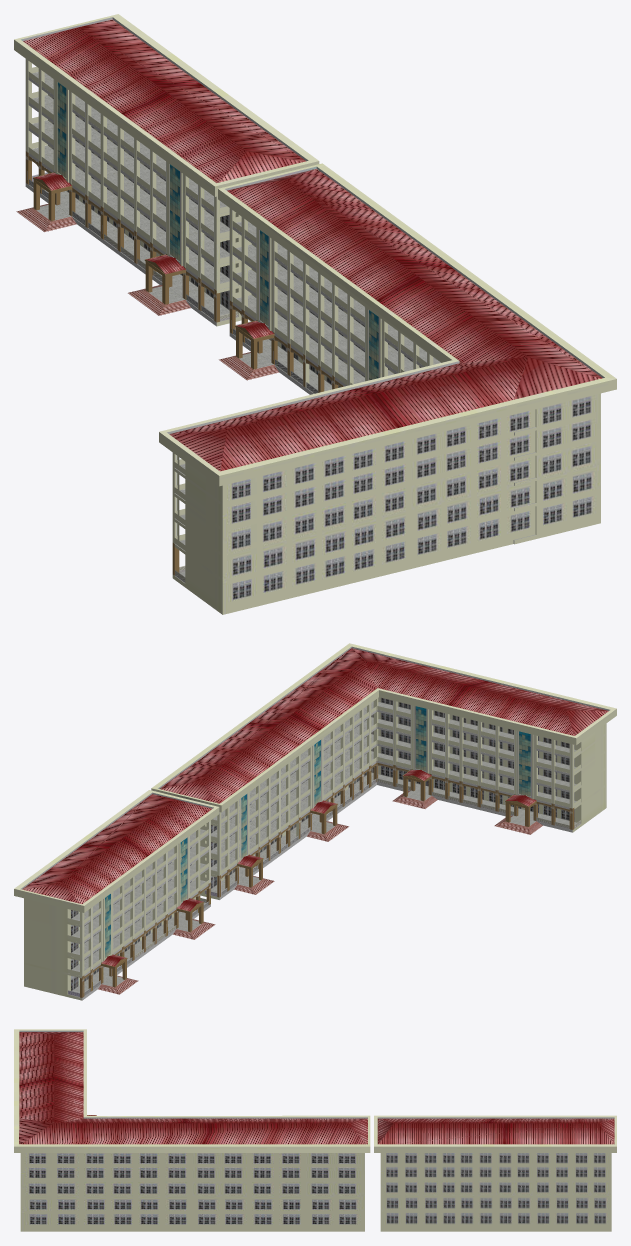
3 views of the same model, one above another, from view 1: azimuth 30°, elevation 25°; view 2: azimuth 150°, elevation 25°; view 3: azimuth 270°, elevation 25° (orthographic). The views are drawn at different scales.
Parts seen in each view (by area): view 1: 5c73a7d59b2f734bcccde525.001; view 2: 5c73a7d59b2f734bcccde525.001; view 3: 5c73a7d59b2f734bcccde525.001.
Part boxes in pixels (box(x1,y1,x2,y2)): 5c73a7d59b2f734bcccde525.001: box(14, 14, 616, 614); 5c73a7d59b2f734bcccde525.001: box(14, 643, 616, 1000); 5c73a7d59b2f734bcccde525.001: box(14, 1029, 616, 1231).
Bounding box in the file's own units: 55.29 × 20.89 × 120.
1 material, 1 textured.
